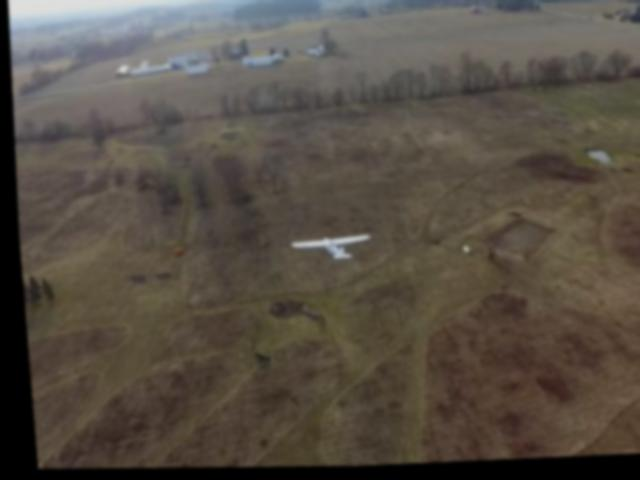uav: (279, 227, 375, 271)
